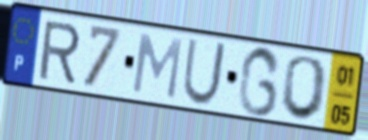7: (81, 23, 123, 92)
G: (235, 44, 283, 119)
M: (129, 30, 185, 102)
O: (278, 54, 331, 124)
R: (36, 19, 83, 86)
U: (180, 37, 229, 108)
